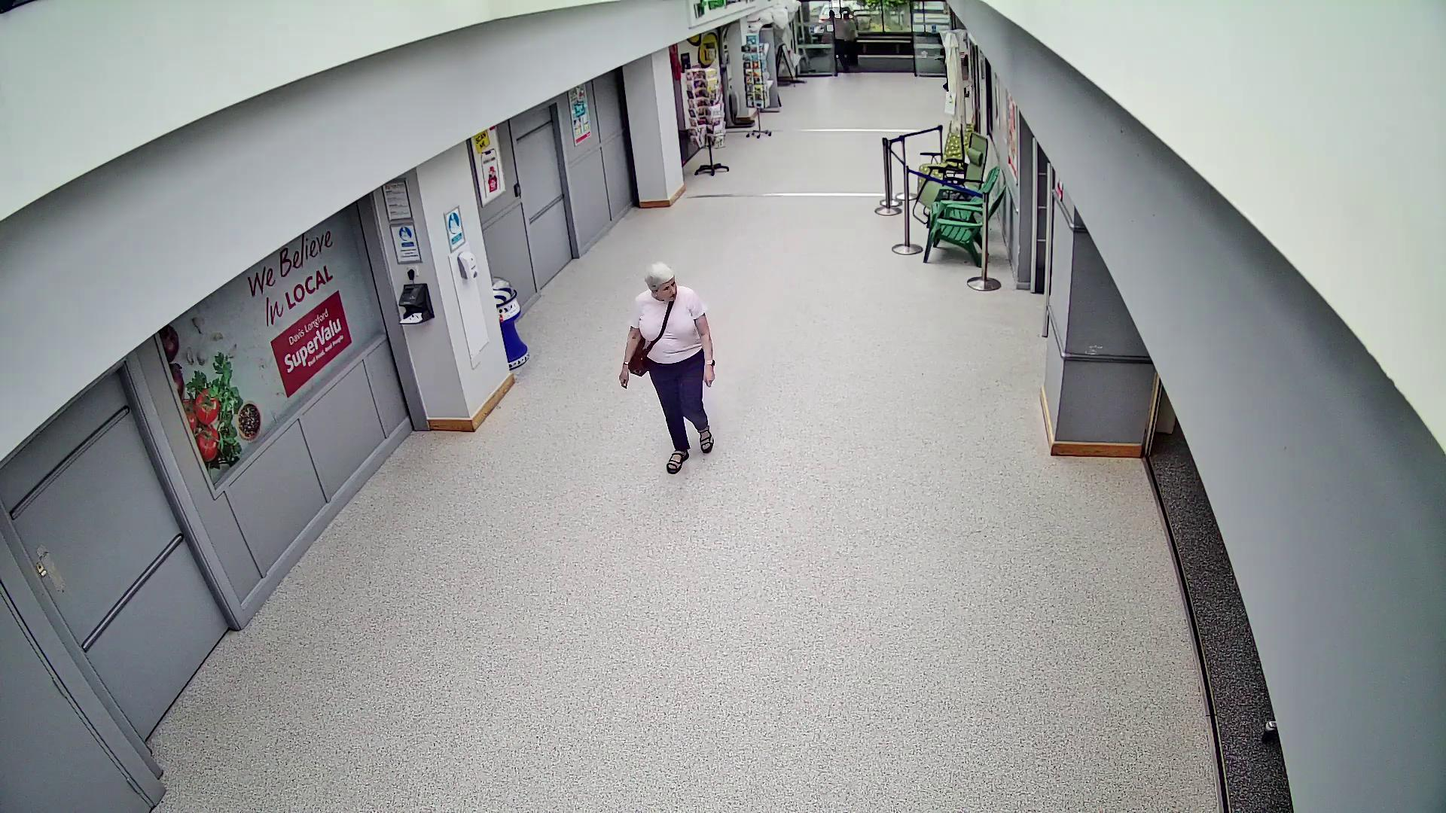backpack-or-handbag: (628, 337, 649, 377)
person: (619, 262, 716, 475)
person-with-backpack-handbag: (620, 263, 715, 474)
